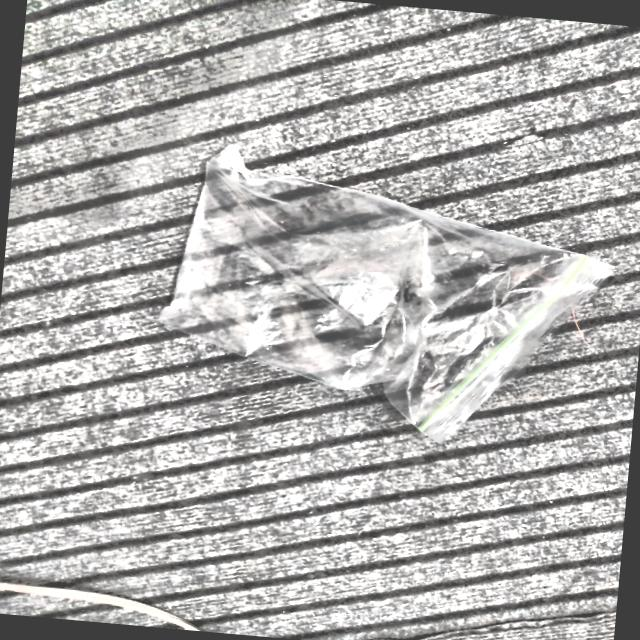plastic bag: (160, 148, 611, 441)
